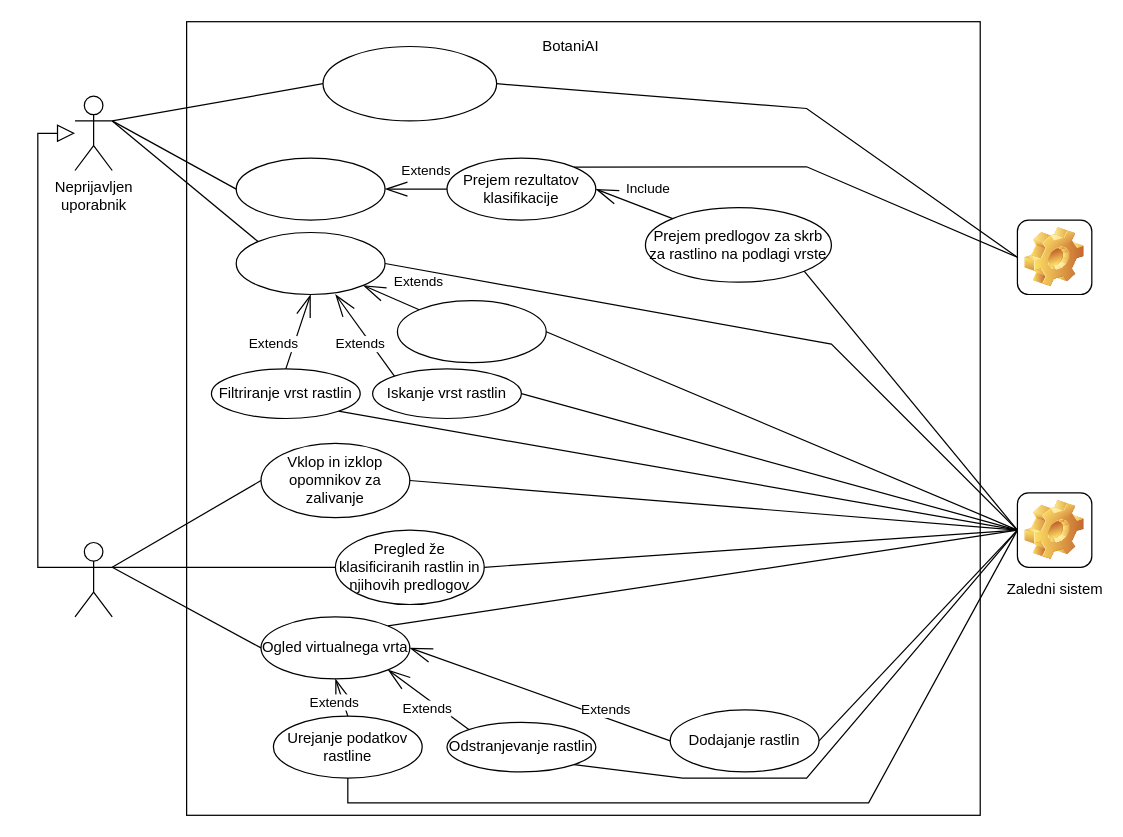
This 1123x837 diagram has some shape labels left out. Here are the shapes that lost their labels. From the top down, the centre of each, then its label:
At (409,83): "Prijava z Google-ovim računom".
At (310,188): "Zajem fotografije rastline".
At (310,262): "Pregled vrst rastlin".
At (1054,256): "Google API".
At (471,331): "Pregled podrobnosti posamezne rastline".
At (93,579): "Prijavljen uporabnik".
